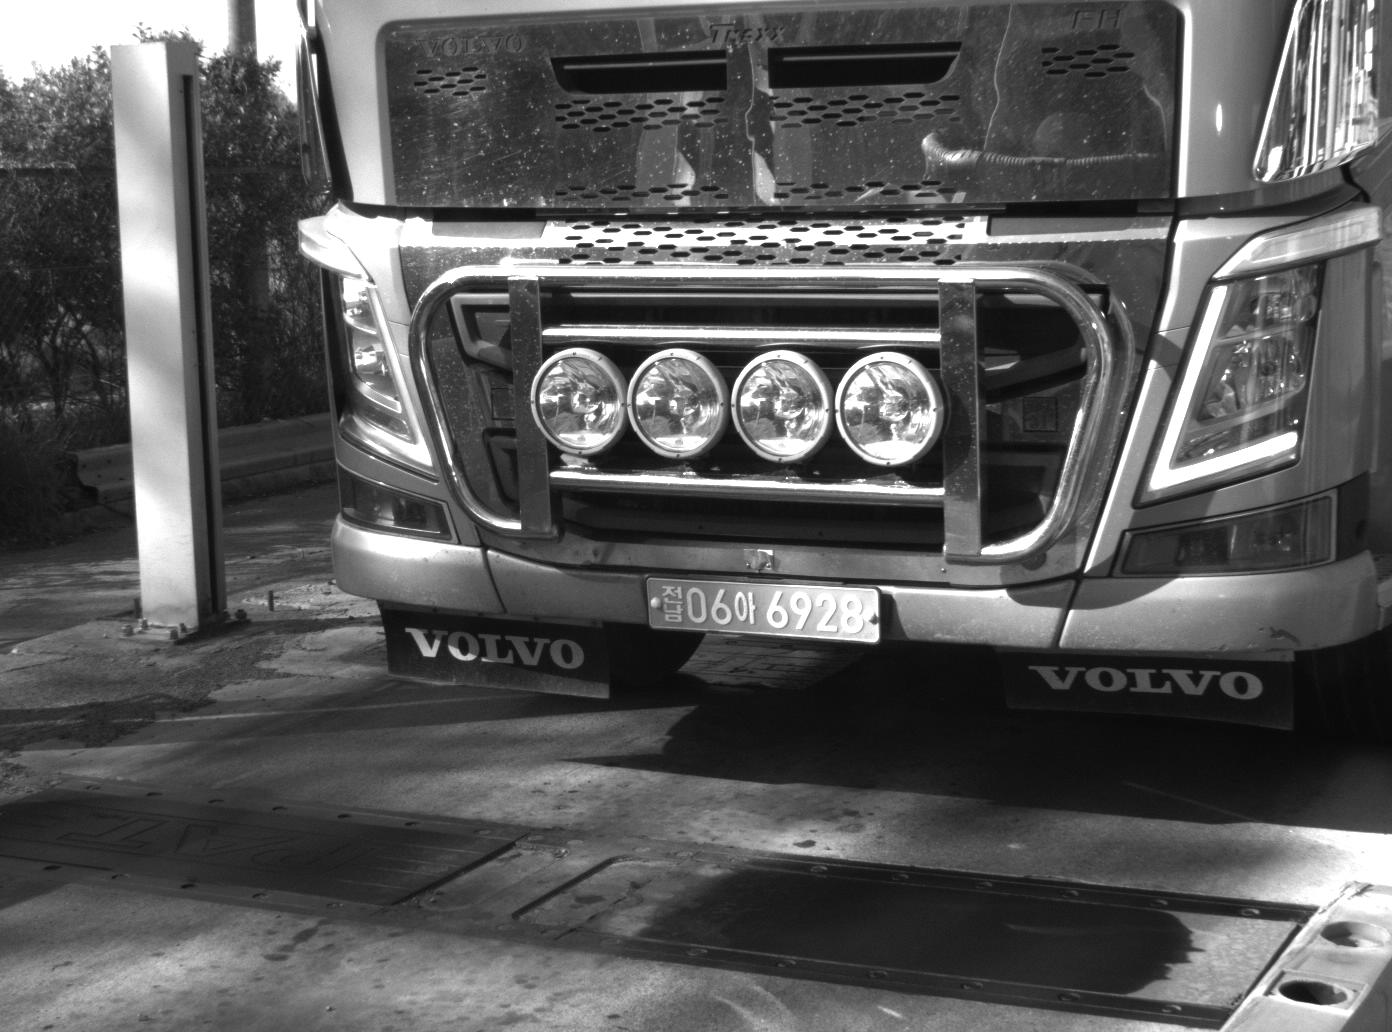car: (281, 1, 1386, 745)
plate: (641, 575, 884, 646)
